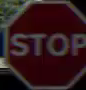Stop: (5, 7, 81, 81)
